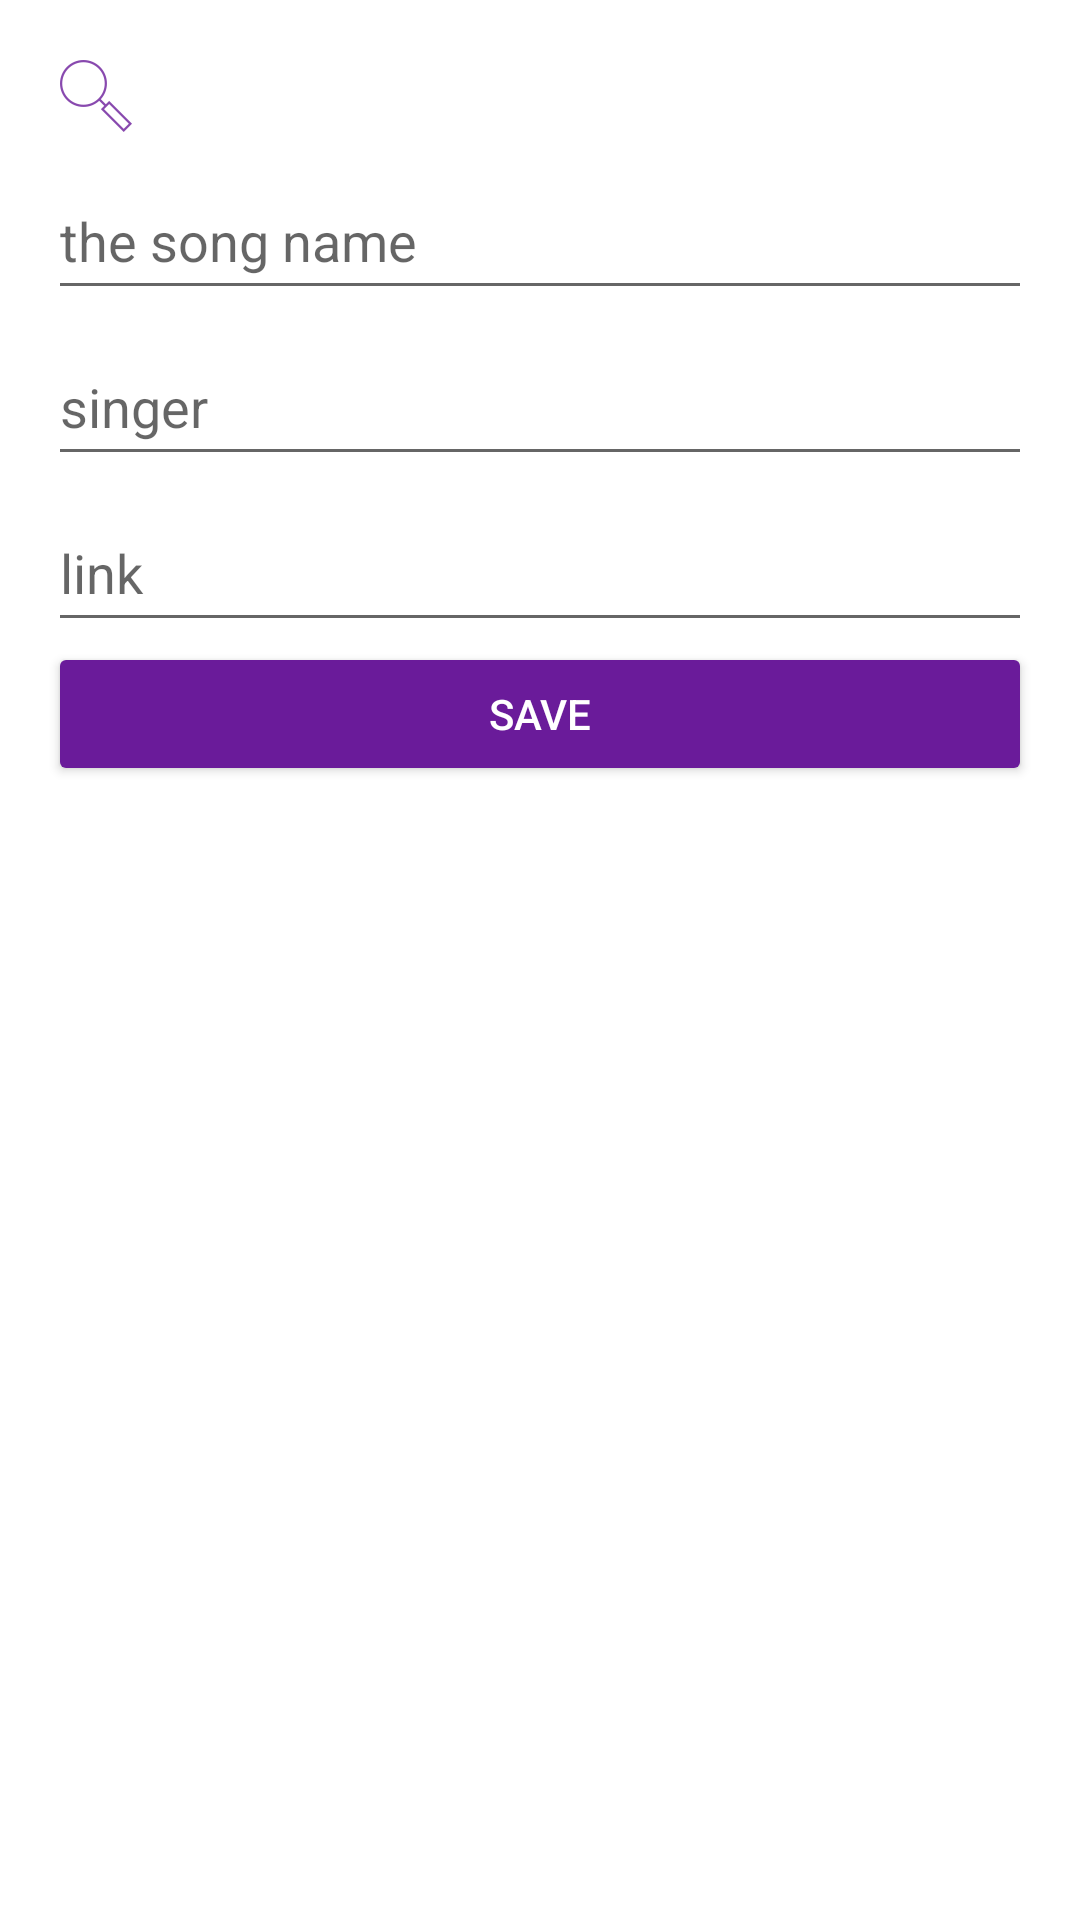

Screen size 1080x1920. Icon name, then its box in pixels as detection(x1, y1, x2, y2):
search: detection(60, 60, 132, 132)
